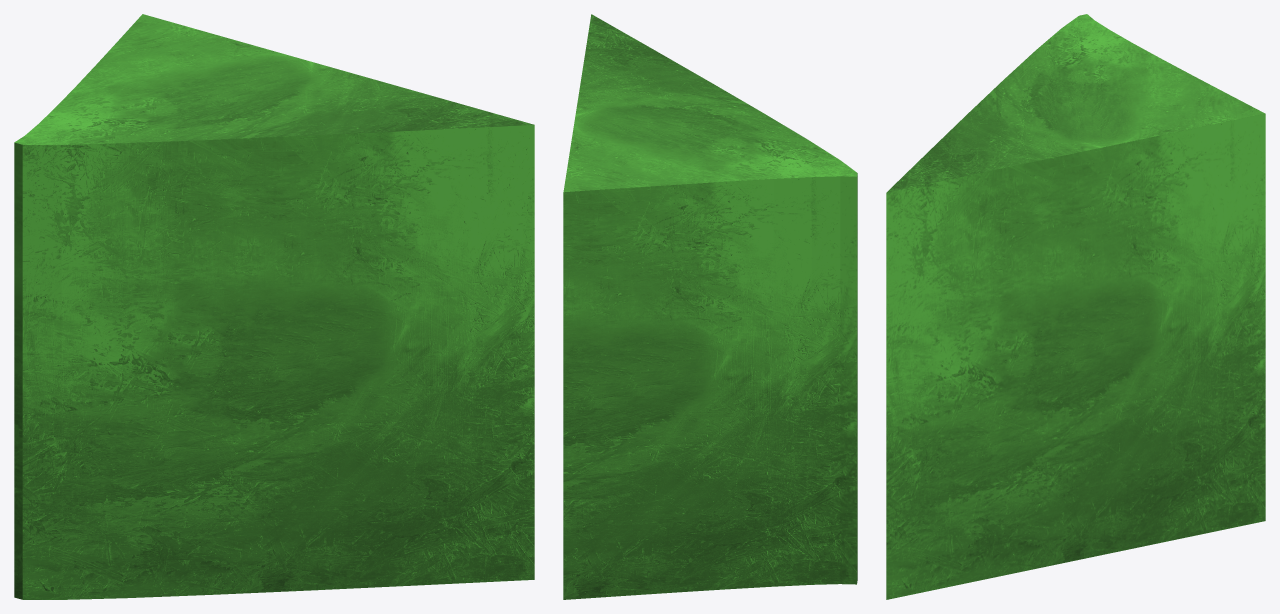
3 renders of one model, left to right at view 1: azimuth 30°, elevation 25°; view 2: azimuth 150°, elevation 25°; view 3: azimuth 270°, elevation 25°, orthographic. The views are drawn at different scales.
Parts seen in each view (by area): view 1: Ligne020; view 2: Ligne020; view 3: Ligne020.
Boxes of the visible parts, left/top/right/bottom form: Ligne020: left=14, top=14, right=534, bottom=599; Ligne020: left=563, top=14, right=857, bottom=599; Ligne020: left=886, top=14, right=1265, bottom=599.
Size of the model in its own units: 6.97 by 7.41 by 6.25.
Materials: 1 (1 with a texture image).
